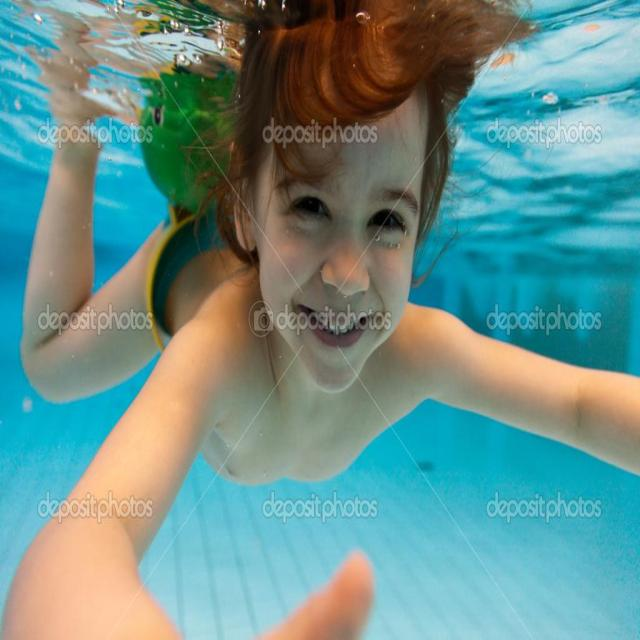Face: (232, 101, 445, 379)
